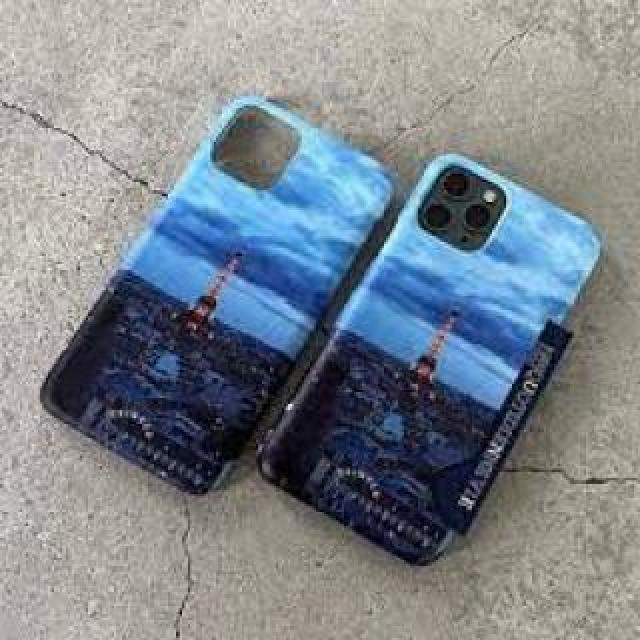smart phone: (295, 164, 617, 588)
